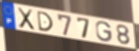7: (56, 13, 72, 37), (76, 17, 92, 40)
8: (116, 24, 132, 46)
D: (36, 10, 55, 32)
G: (95, 20, 113, 43)
X: (17, 7, 36, 32)
